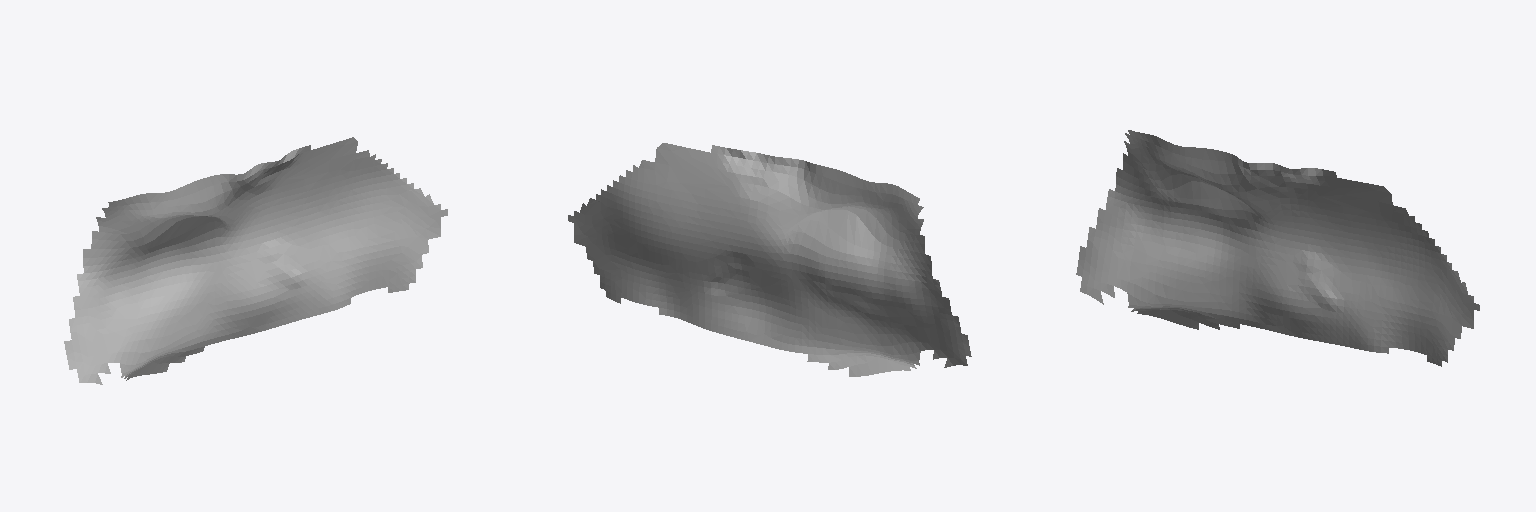
The picture shows the model from 3 angles: view 1: azimuth 30°, elevation 25°; view 2: azimuth 150°, elevation 25°; view 3: azimuth 330°, elevation 25°; orthographic projection.
Visible parts, largest first — view 1: GEO-Ground.002_Plane.002; view 2: GEO-Ground.002_Plane.002; view 3: GEO-Ground.002_Plane.002.
Boxes of the visible parts, x1,y1,x2,y2 form: GEO-Ground.002_Plane.002: [64, 137, 447, 384]; GEO-Ground.002_Plane.002: [568, 143, 971, 376]; GEO-Ground.002_Plane.002: [1076, 130, 1479, 366].
Size of the model in its own units: 41.79 by 19.91 by 4.46.